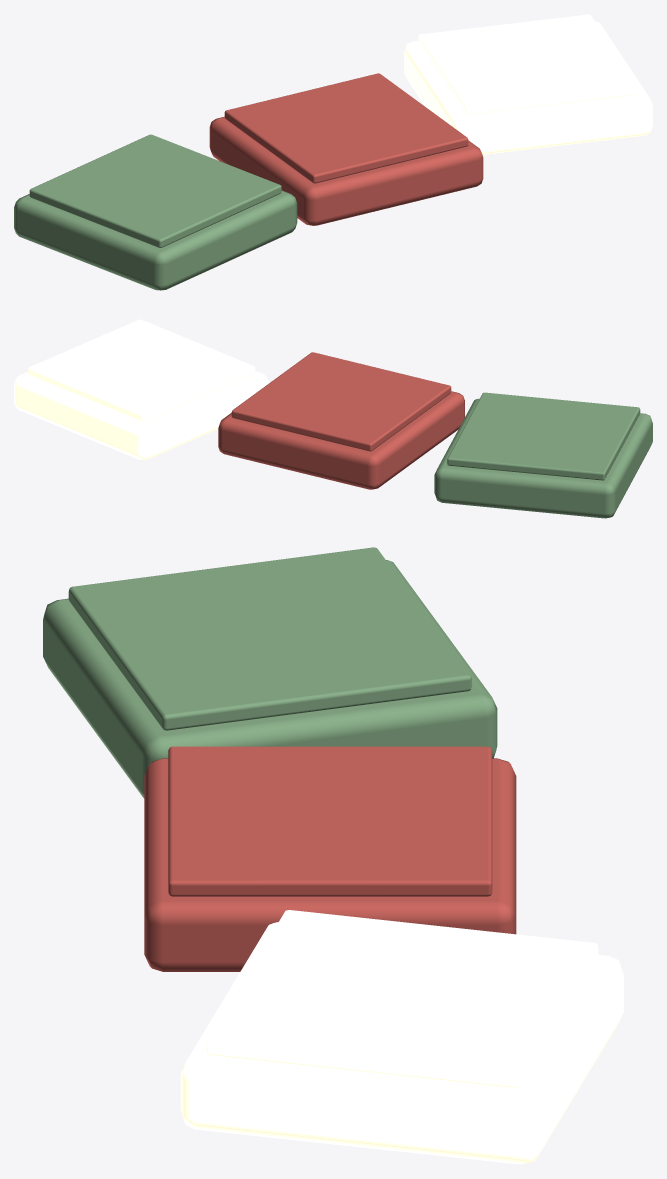
File: floor-cushion.glb
The picture shows the model from 3 angles, top to bottom: view 1: azimuth 30°, elevation 25°; view 2: azimuth 150°, elevation 25°; view 3: azimuth 270°, elevation 25°; orthographic projection. The views are drawn at different scales.
Visible parts, largest first — view 1: floor-cushion-set; view 2: floor-cushion-set; view 3: floor-cushion-set.
Part boxes in pixels (x1,y1,x2,y2): floor-cushion-set: (14, 14, 652, 290); floor-cushion-set: (14, 319, 652, 518); floor-cushion-set: (43, 547, 623, 1164).
Size of the model in its own units: 2.17 by 0.16 by 0.9679.
